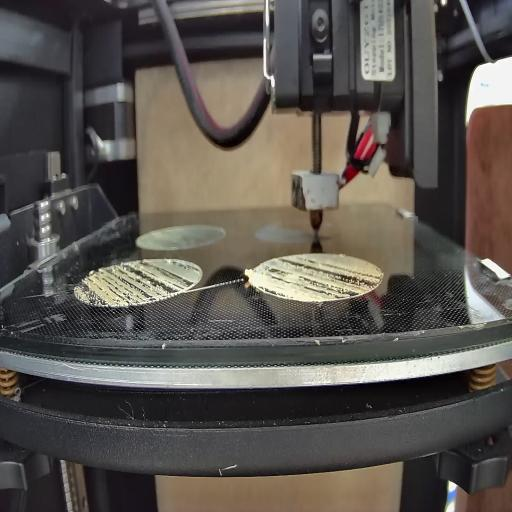under_extrusion: (262, 256, 384, 308), (78, 260, 196, 303)
